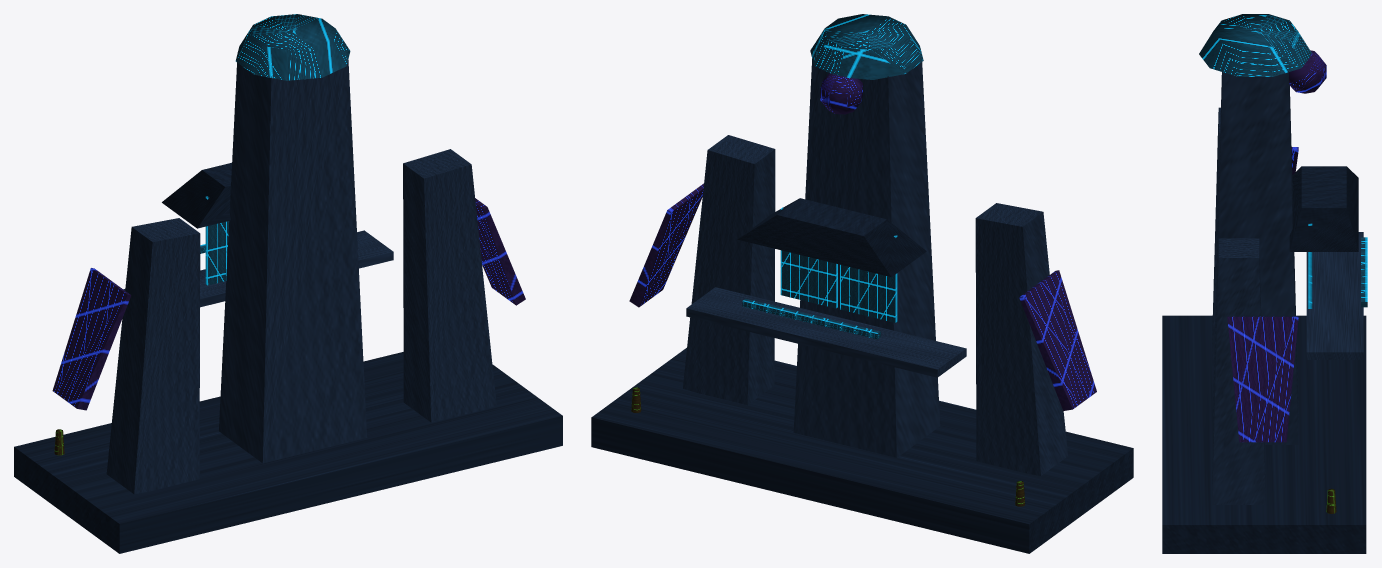
The model's file is command-horizon-command-deck-lod2-textured.glb.
The picture shows the model from 3 angles, left to right: view 1: azimuth 30°, elevation 25°; view 2: azimuth 150°, elevation 25°; view 3: azimuth 270°, elevation 25°; orthographic projection. The views are drawn at different scales.
Visible parts, largest first — view 1: deck-main-tower, deck-foundation, deck-wing--1, deck-wing-1, deck-crown, deck-fin--1, deck-canopy, deck-fin-1, deck-balcony, deck-facade-0; view 2: deck-foundation, deck-main-tower, deck-wing--1, deck-wing-1, deck-balcony, deck-canopy, deck-crown, deck-fin--1, deck-fin-1, deck-facade-0, deck-facade-1, deck-holo-core (+1 smaller); view 3: deck-foundation, deck-main-tower, deck-wing-1, deck-fin-1, deck-balcony, deck-canopy, deck-crown, deck-holo-core, deck-wing--1, deck-facade-1.
Part boxes in pixels (box(x1,y1,x2,y2)): deck-main-tower: box(219, 52, 367, 463); deck-foundation: box(14, 352, 562, 553); deck-wing--1: box(106, 218, 200, 494); deck-wing-1: box(403, 149, 496, 422); deck-crown: box(235, 14, 350, 80); deck-fin--1: box(52, 268, 131, 410); deck-canopy: box(162, 162, 231, 228); deck-fin-1: box(475, 198, 525, 305); deck-balcony: box(123, 230, 393, 307); deck-facade-0: box(205, 196, 229, 285); deck-foundation: box(591, 348, 1133, 553); deck-main-tower: box(793, 51, 940, 457); deck-wing--1: box(975, 203, 1067, 475); deck-wing-1: box(683, 135, 775, 405); deck-balcony: box(686, 287, 966, 377); deck-canopy: box(737, 198, 926, 276); deck-crown: box(810, 14, 923, 79); deck-fin--1: box(1019, 270, 1096, 410); deck-fin-1: box(629, 183, 703, 307); deck-facade-0: box(840, 235, 897, 322); deck-facade-1: box(780, 207, 837, 308); deck-holo-core: box(820, 73, 862, 114); deck-foundation: box(1162, 315, 1366, 553); deck-main-tower: box(1213, 71, 1298, 444); deck-wing-1: box(1212, 238, 1265, 504); deck-fin-1: box(1227, 316, 1298, 442); deck-balcony: box(1306, 232, 1363, 359); deck-canopy: box(1289, 166, 1358, 251); deck-crown: box(1199, 14, 1311, 76); deck-holo-core: box(1289, 50, 1326, 93); deck-wing--1: box(1212, 107, 1220, 365); deck-facade-1: box(1308, 223, 1312, 308).
Bounding box in the file's own units: 6.89 × 6.33 × 2.81.
5 materials, 5 textured.
